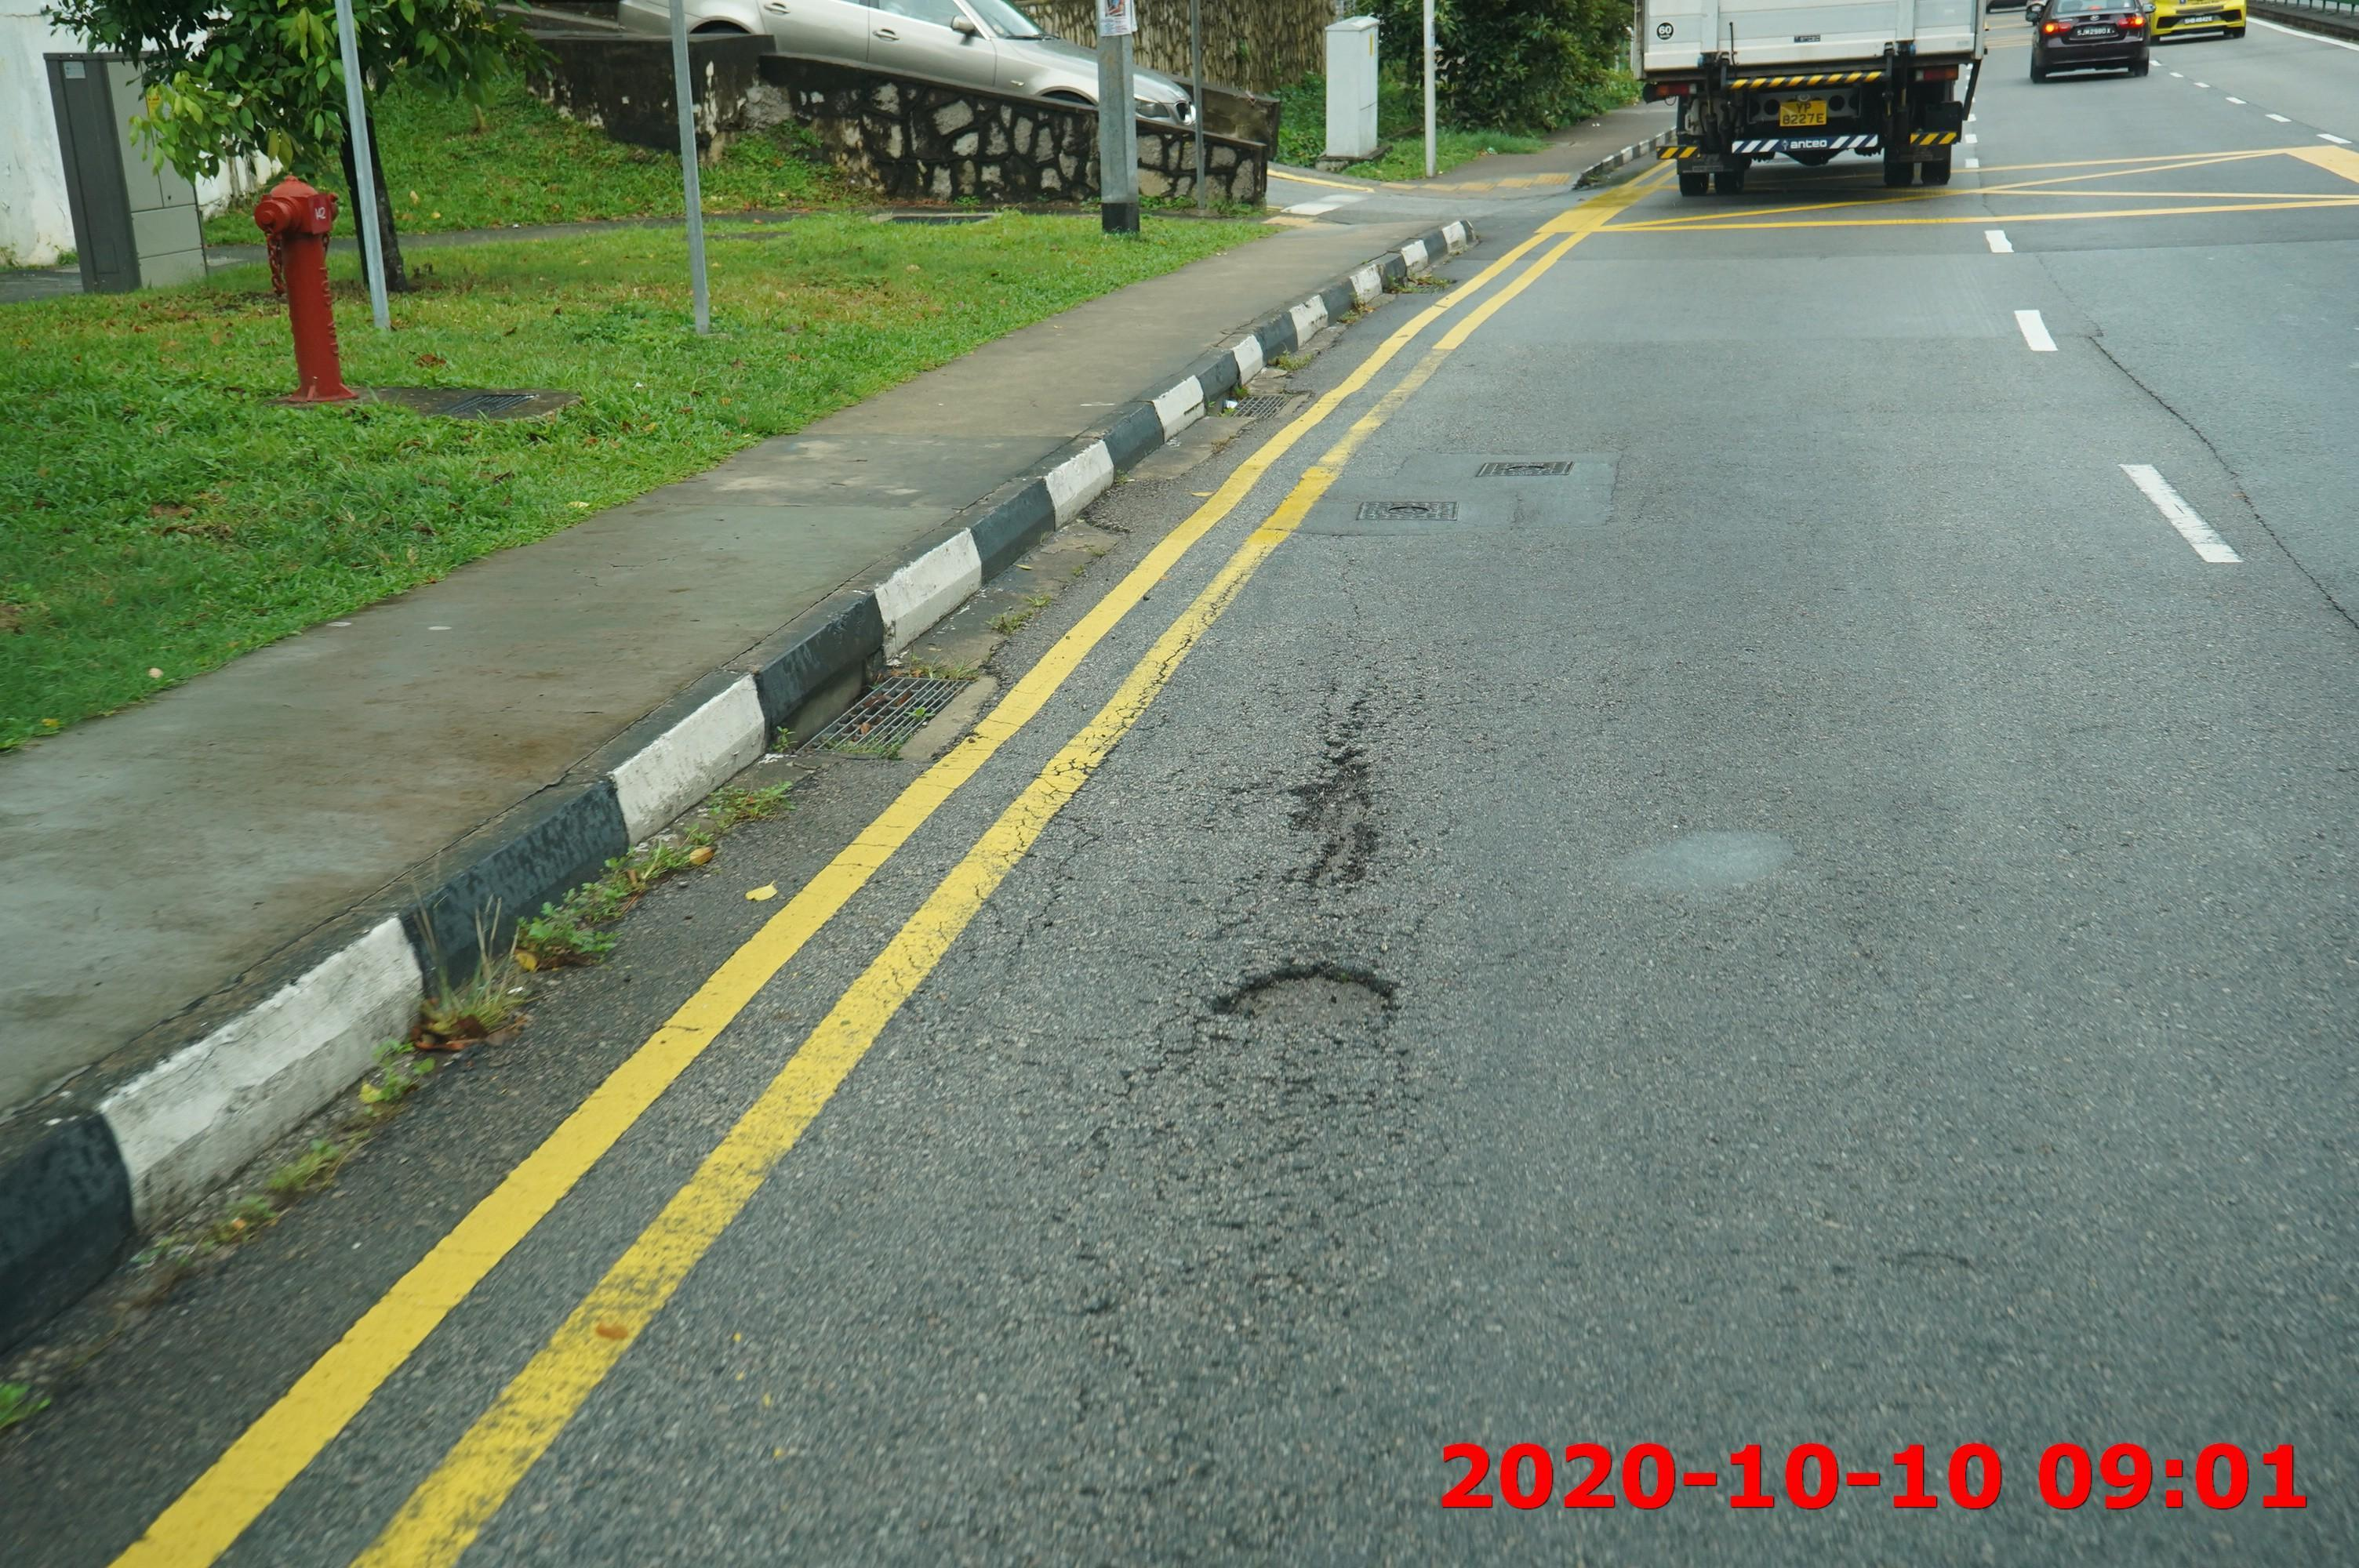peeling off premix: (1283, 747, 1384, 901)
wearing course peeling off: (1187, 945, 1424, 1052)
